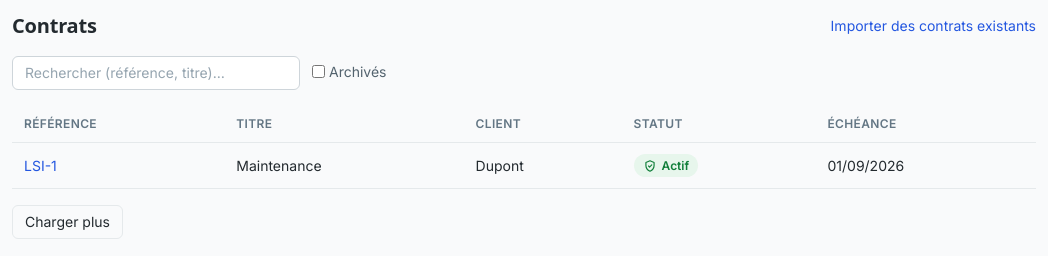
Test: charge la page suivante via « Charger plus »
Expected: the link "LSI-1" is shown, [24,157,57,174]
Click the button "Charger plus".
click(68, 222)  # box [12,205,123,239]
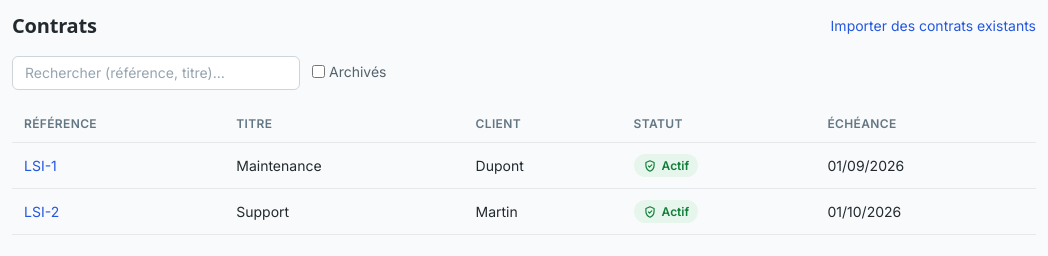
Now the link "LSI-2" is shown, box [24,203,59,220]
Now the text "Martin" is shown, box [464,189,622,235]
Now the button "Charger plus" is gone
